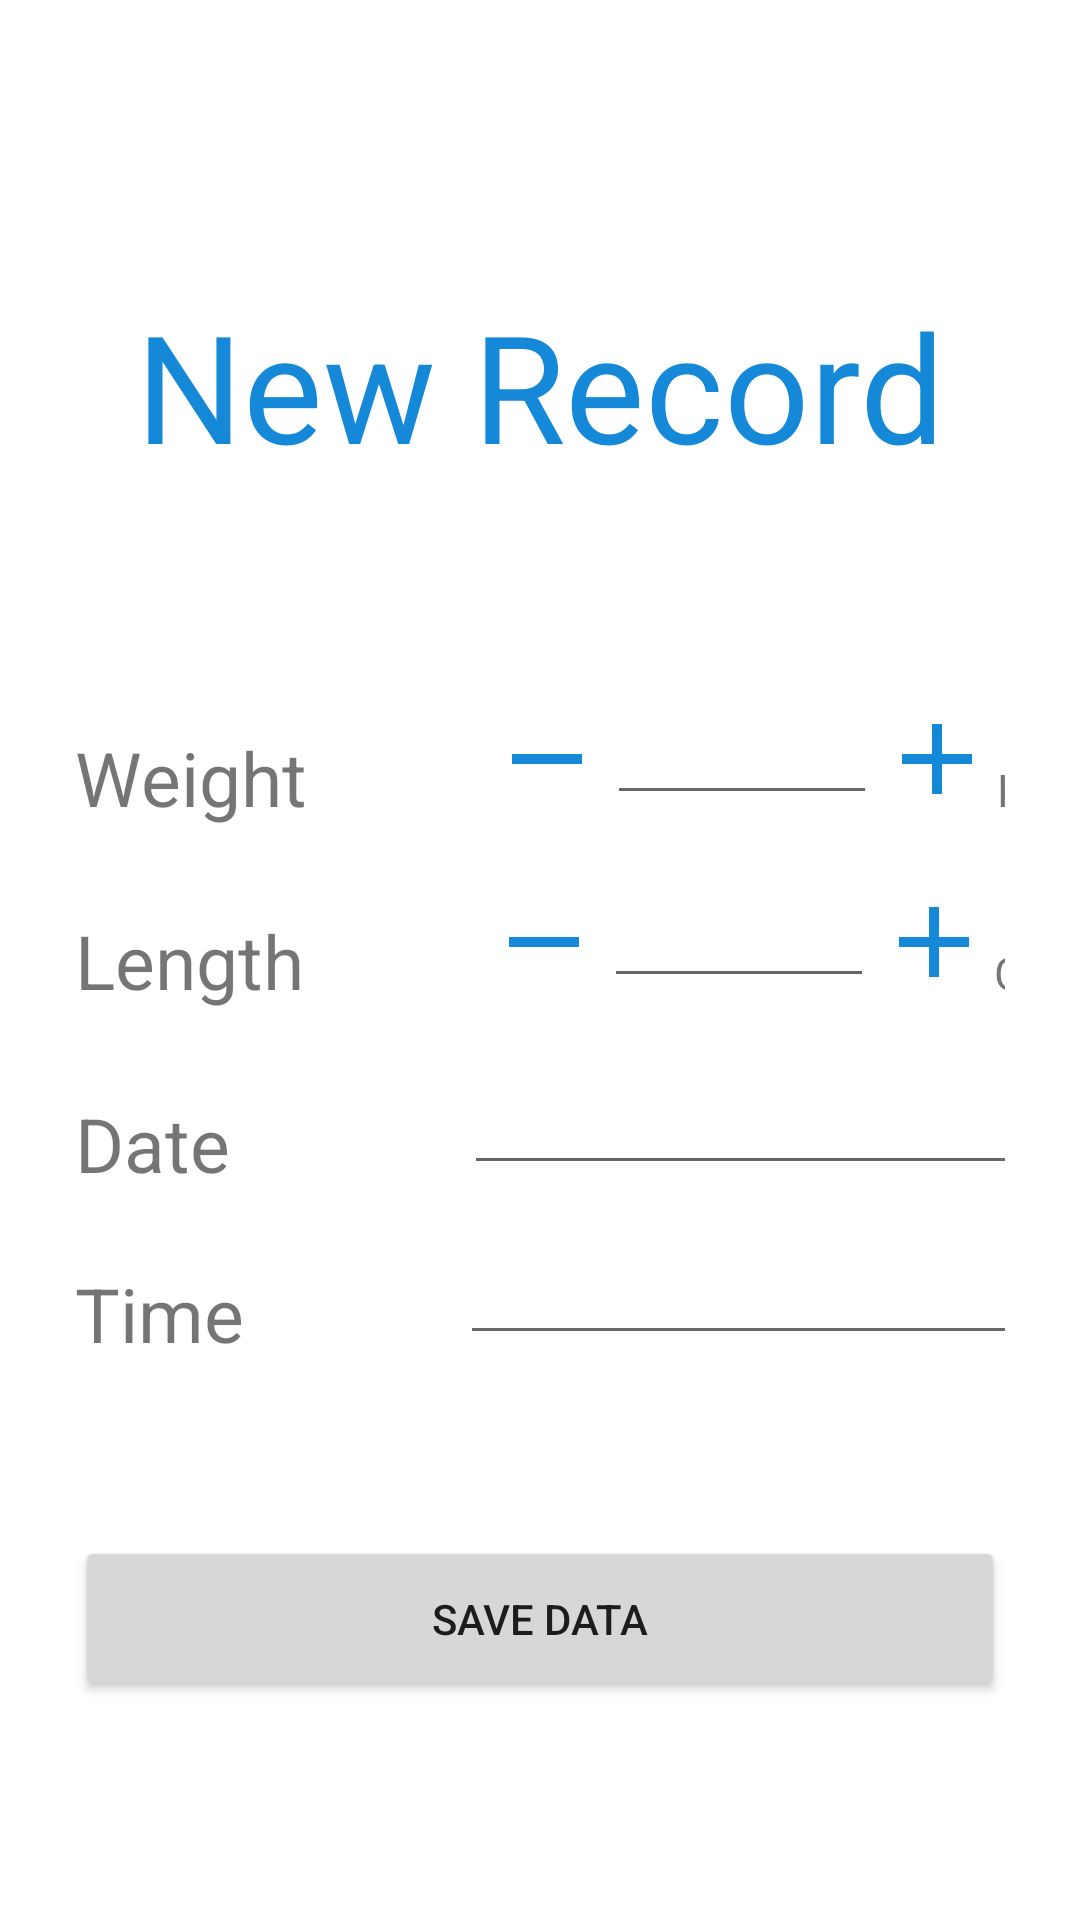

Icons on this 1080*1920 Android screen, each with its box as (x1, y1, x2, y2):
add: (902, 724, 972, 794), (899, 907, 969, 977)
